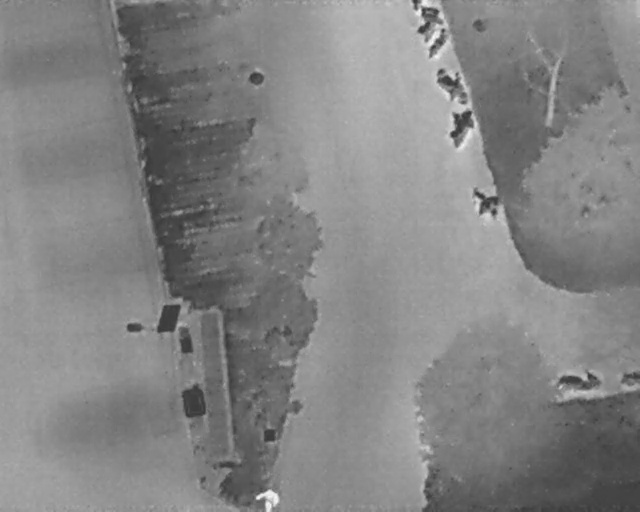Bicycle: (425, 57, 478, 112), (434, 99, 482, 153), (418, 21, 458, 66), (408, 1, 444, 42), (553, 368, 603, 393), (472, 188, 502, 219), (618, 369, 639, 388), (411, 0, 422, 12)
Person: (253, 489, 279, 510)
